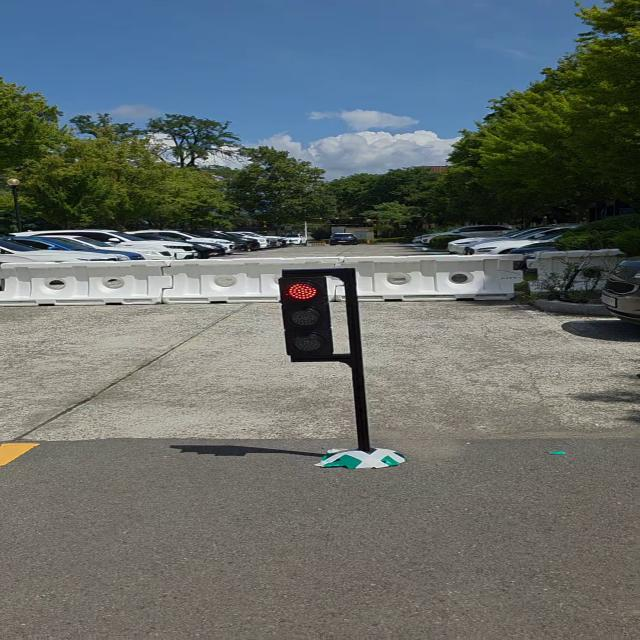red: (274, 273, 336, 364)
